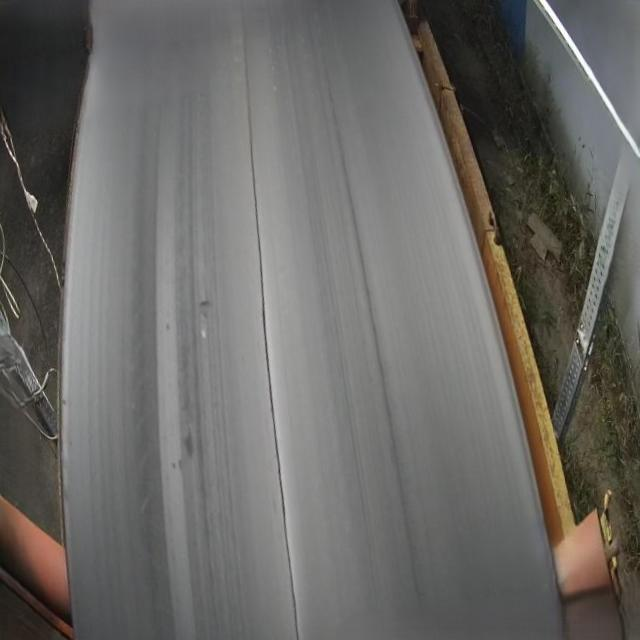Tear: (237, 0, 304, 640)
